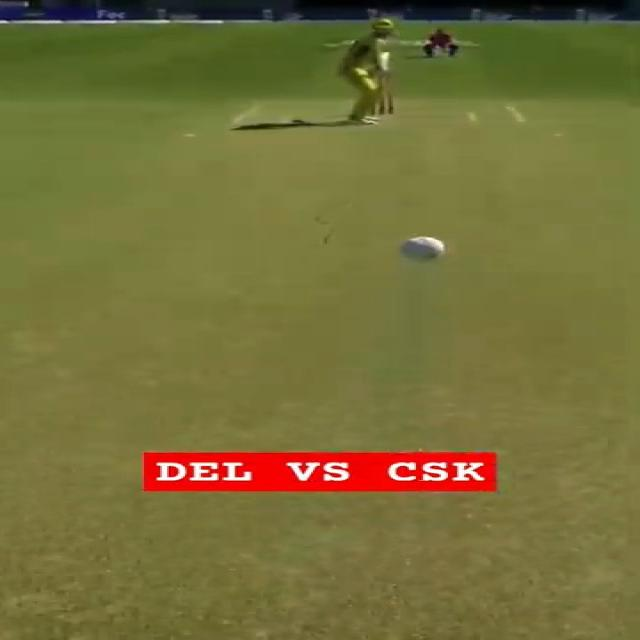ball: (388, 225, 455, 268)
